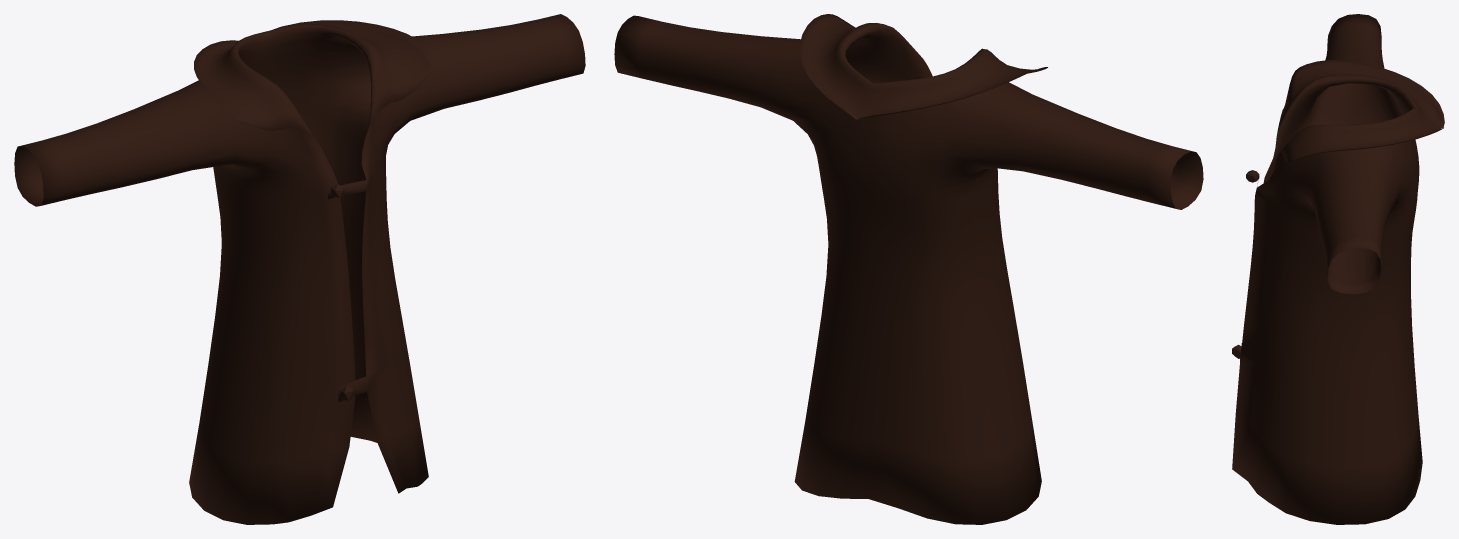
The model's file is hcboy.fbx.
The picture shows the model from 3 angles, left to right: view 1: azimuth 30°, elevation 25°; view 2: azimuth 150°, elevation 25°; view 3: azimuth 270°, elevation 25°; orthographic projection. The views are drawn at different scales.
Parts seen in each view (by area): view 1: Coat.001; view 2: Coat.001; view 3: Coat.001.
Boxes of the visible parts, left/top/right/bottom form: Coat.001: left=14, top=14, right=585, bottom=524; Coat.001: left=614, top=14, right=1203, bottom=524; Coat.001: left=1232, top=14, right=1444, bottom=524.
Bounding box in the file's own units: 55.22 × 41.67 × 21.14.
